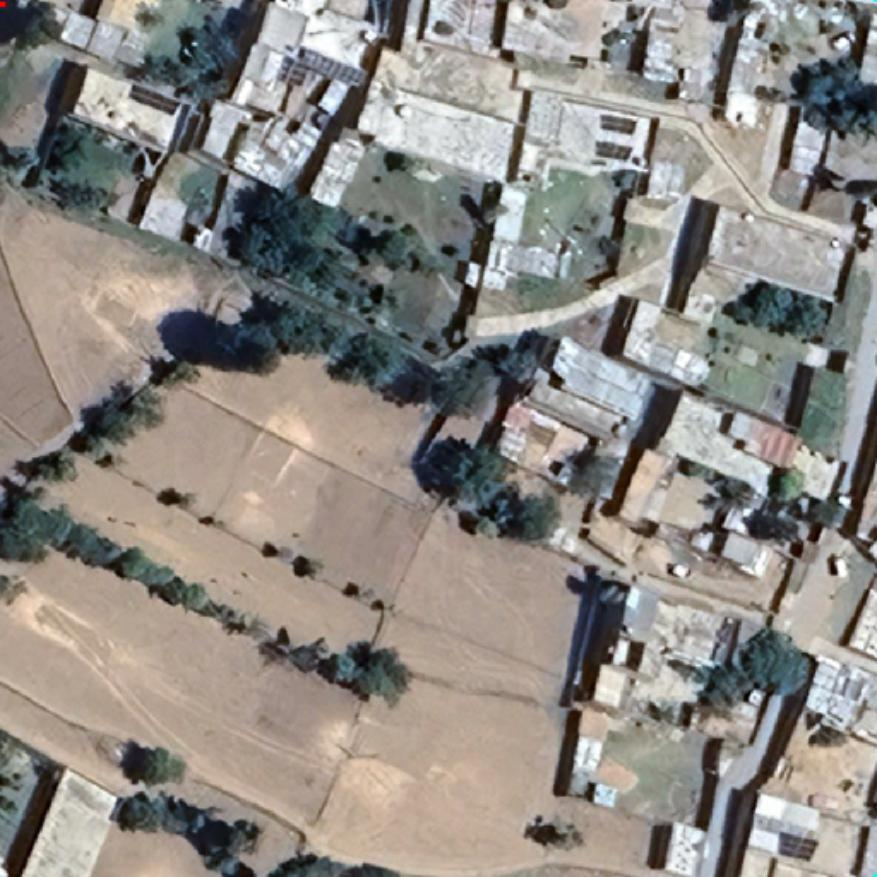Solarpanel: (289, 42, 376, 95), (126, 80, 182, 116), (775, 826, 821, 864), (590, 137, 638, 165), (596, 110, 640, 136)
